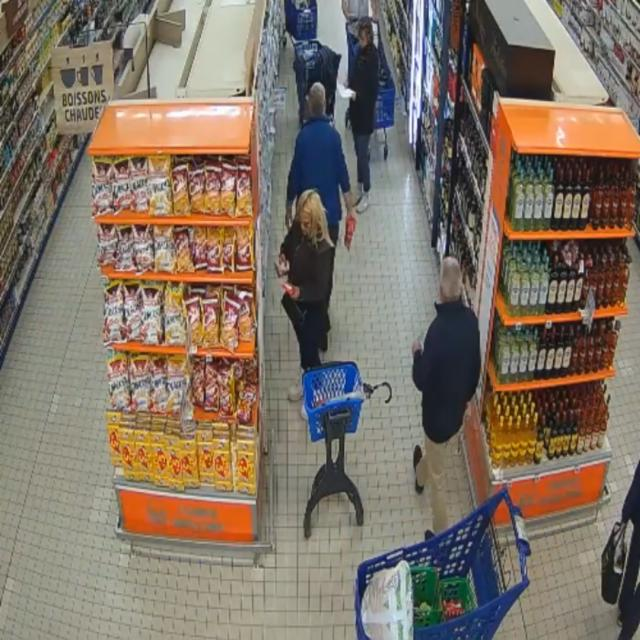article: (344, 217, 357, 253), (273, 258, 290, 279), (281, 281, 296, 296)
bags: (602, 523, 626, 605), (282, 293, 304, 326)
hands: (285, 206, 293, 229), (412, 339, 421, 354), (290, 286, 299, 299), (279, 254, 287, 266), (348, 208, 356, 218), (621, 517, 628, 526), (350, 92, 356, 100), (344, 80, 349, 88)
person: (413, 258, 480, 533), (286, 83, 354, 351), (276, 190, 332, 371), (349, 19, 379, 212), (619, 464, 639, 639), (342, 0, 369, 34)
